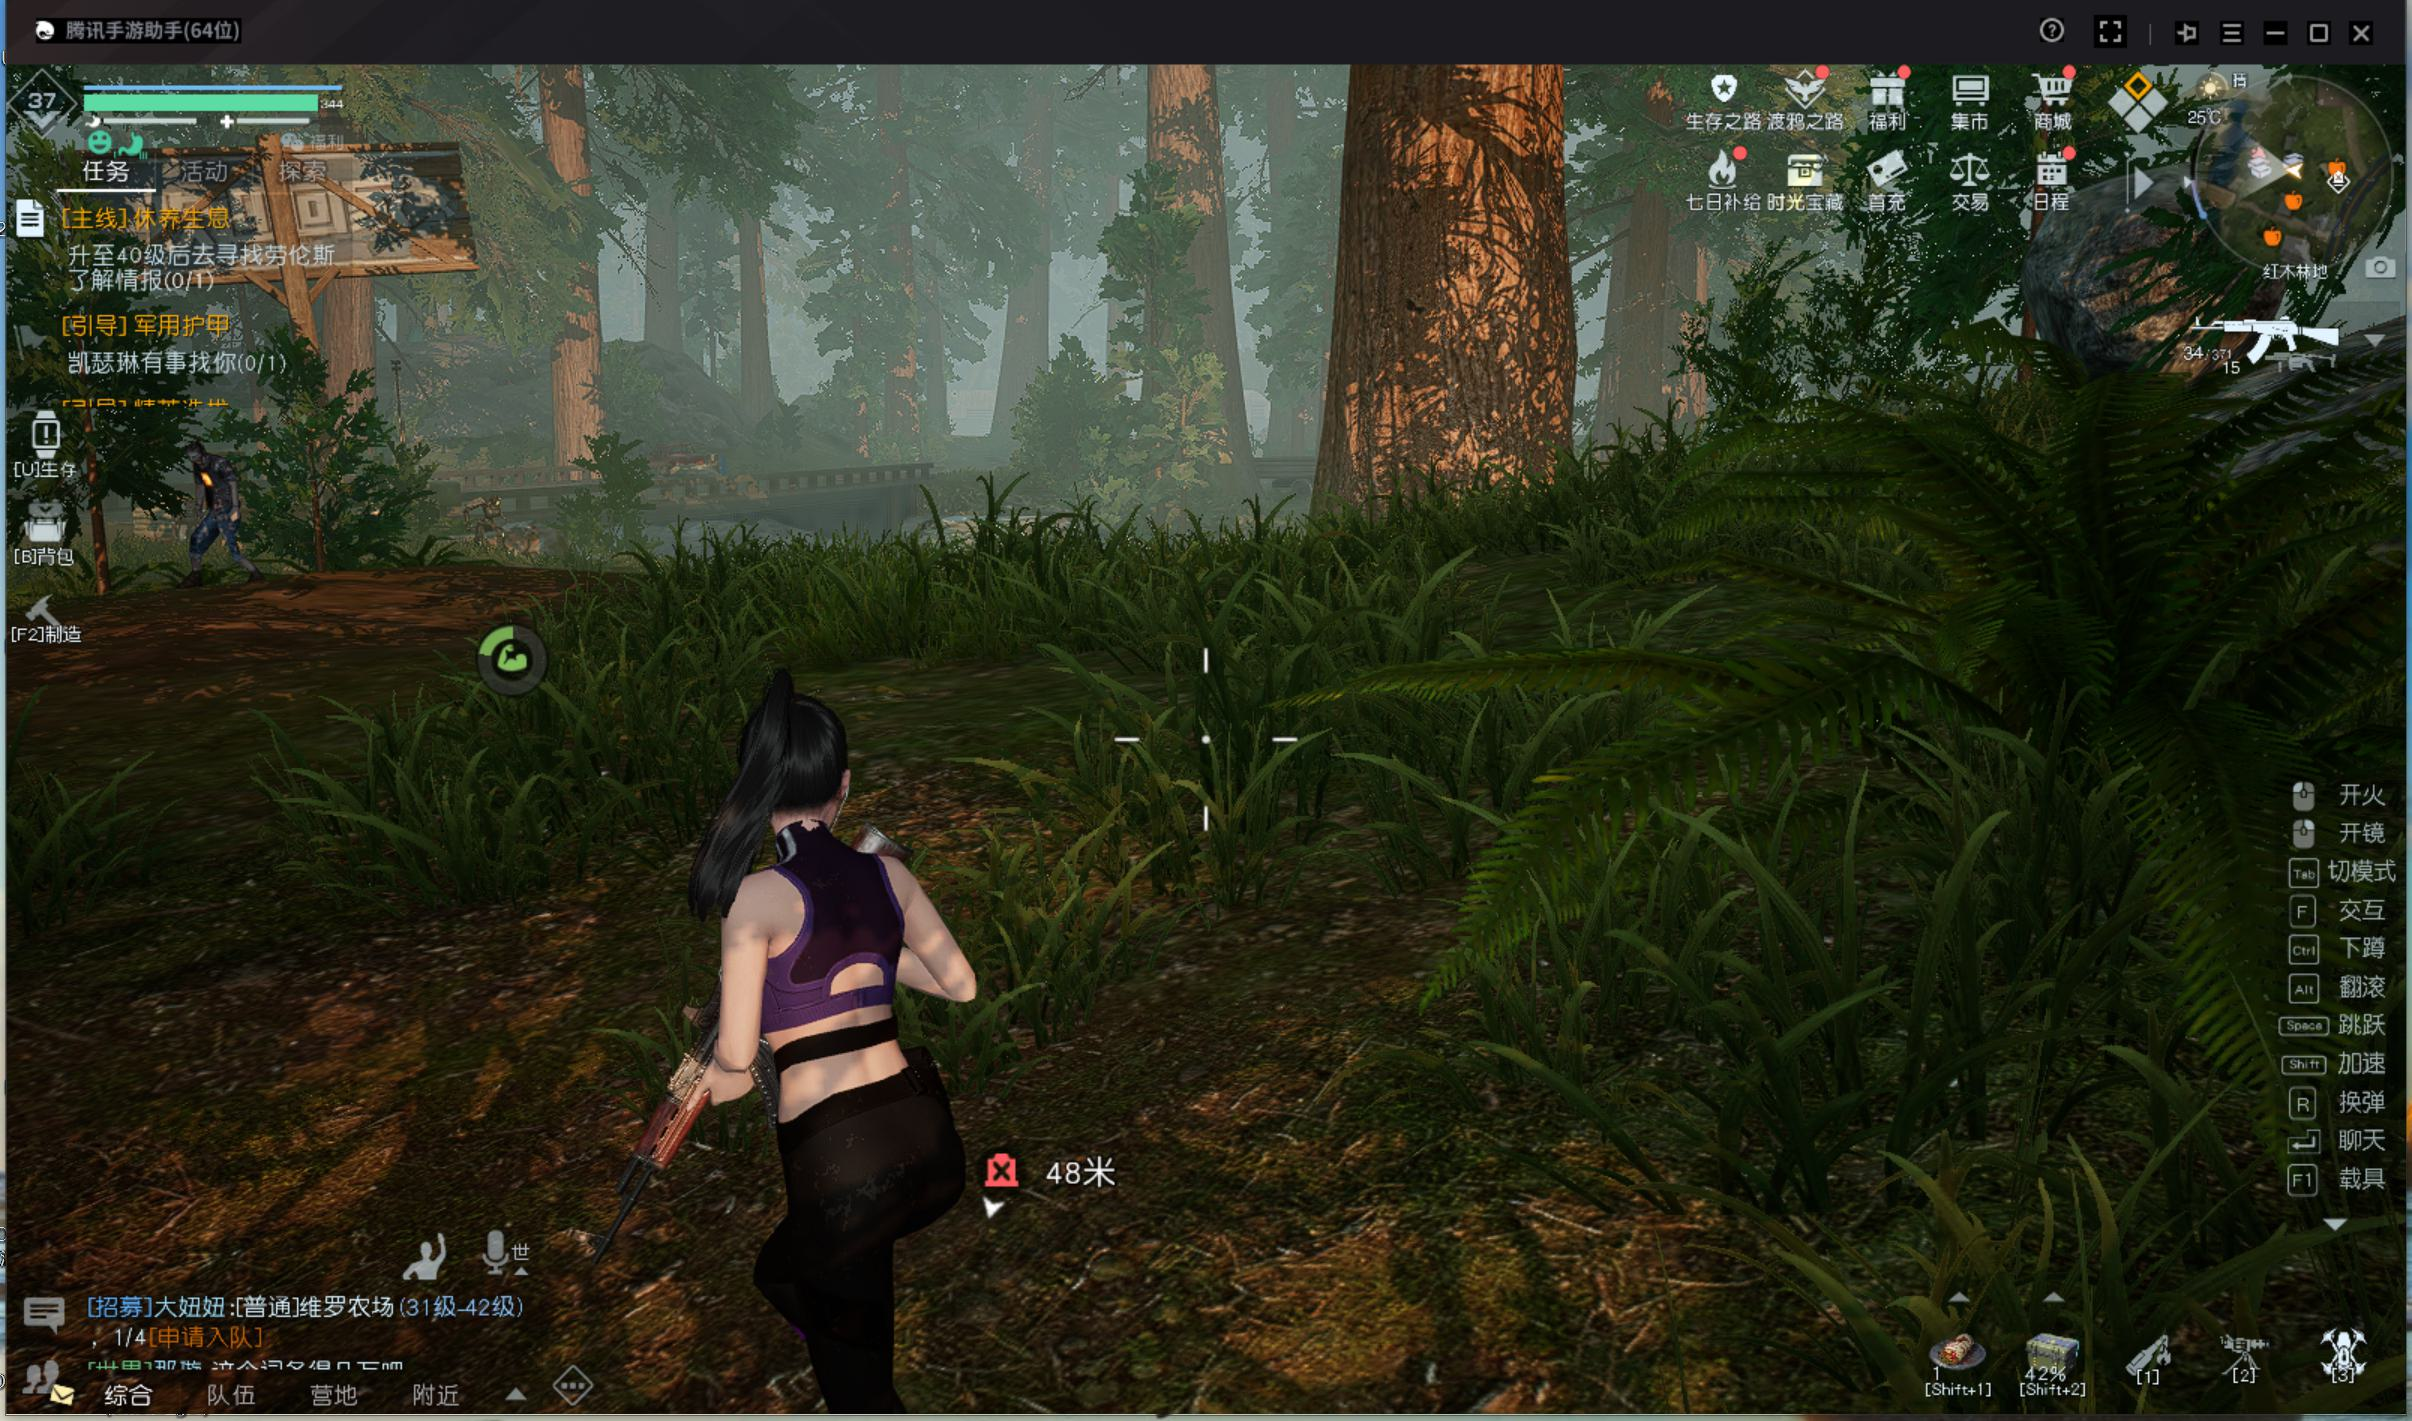tree: (1116, 98, 1242, 523), (528, 90, 609, 526)
